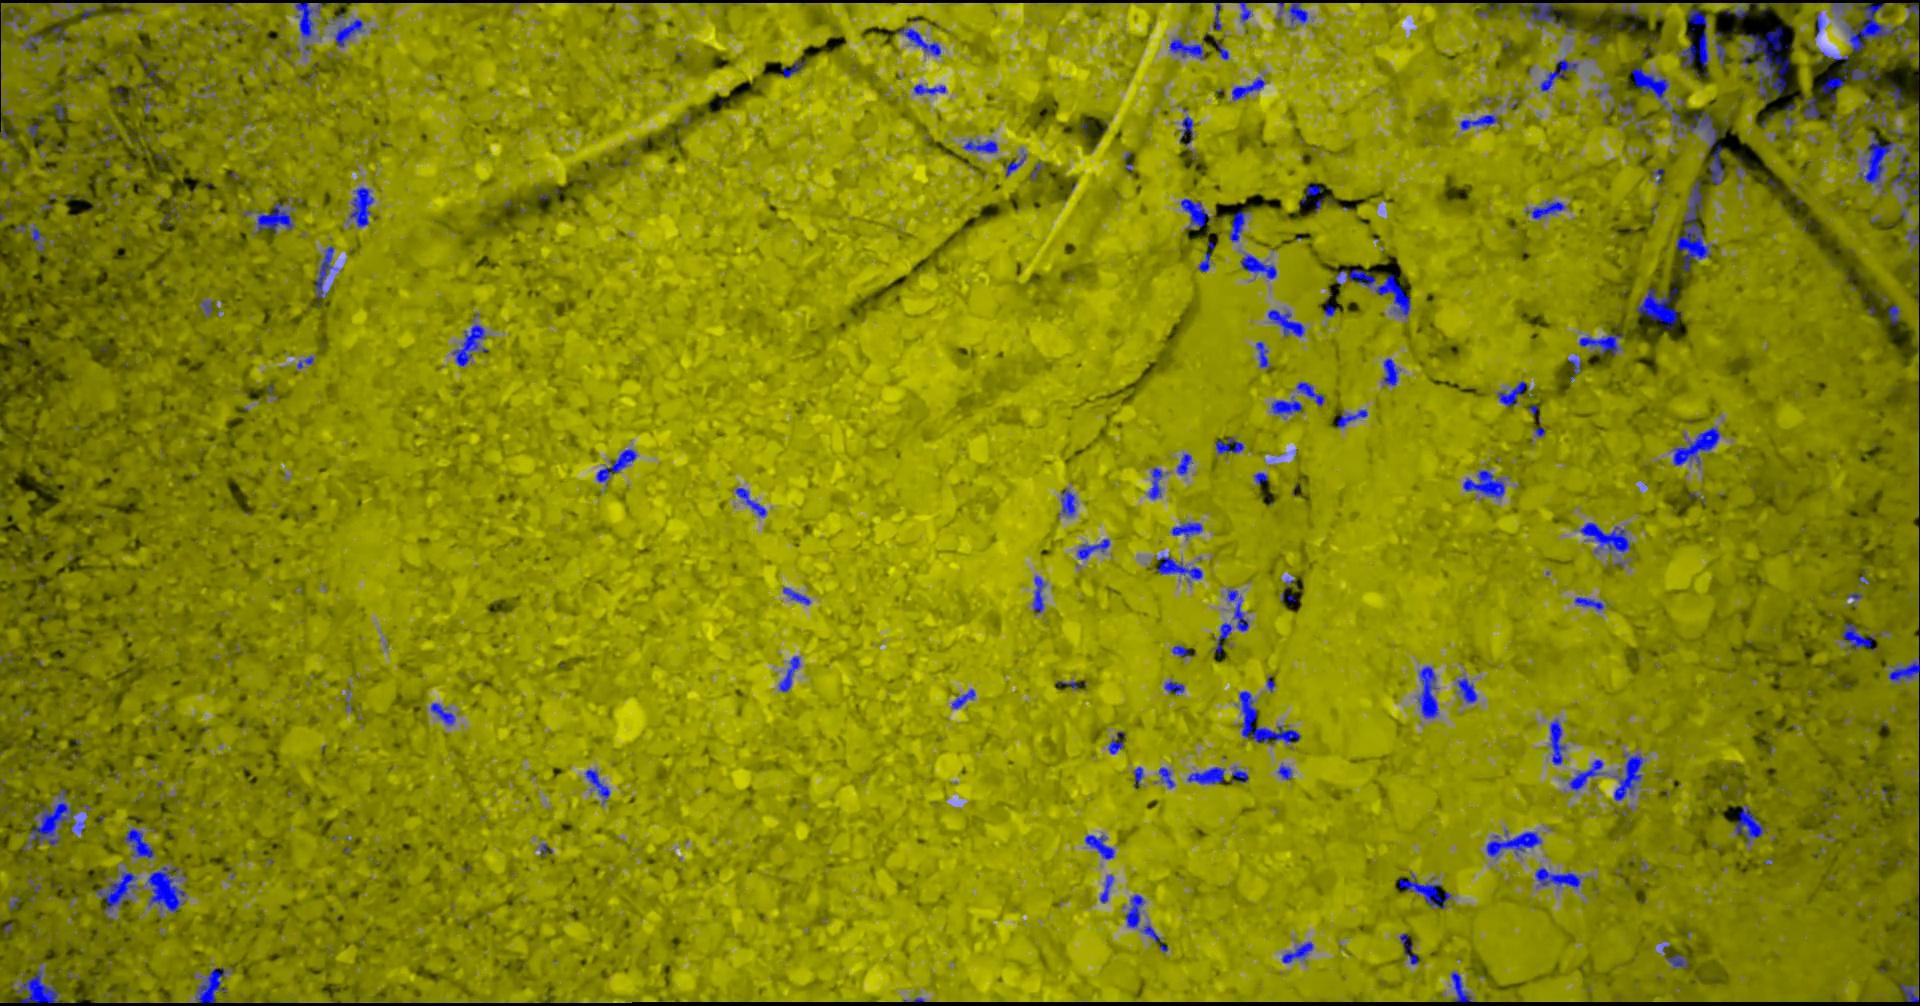ant: (1239, 690, 1302, 744), (1349, 268, 1412, 316), (1688, 111, 1724, 185), (147, 866, 188, 917), (1637, 287, 1684, 329), (1399, 873, 1453, 908), (17, 969, 70, 1005), (1674, 427, 1721, 466), (98, 870, 138, 915), (1681, 9, 1710, 69), (297, 0, 331, 50), (1487, 829, 1543, 859), (1581, 522, 1632, 553), (453, 324, 490, 366), (597, 448, 637, 485), (1822, 51, 1850, 103), (1614, 753, 1644, 800), (1633, 67, 1670, 105), (1530, 3, 1578, 30), (315, 246, 337, 306), (1156, 555, 1204, 580), (1464, 469, 1506, 498), (1542, 58, 1578, 91), (258, 201, 296, 232), (197, 967, 229, 1005), (899, 27, 942, 55), (1570, 760, 1606, 791), (1418, 666, 1440, 718), (1736, 805, 1765, 843), (1269, 309, 1305, 337), (350, 185, 375, 227), (1844, 622, 1878, 652), (1580, 333, 1625, 354), (124, 827, 156, 857), (1537, 868, 1582, 888), (737, 486, 768, 516), (1909, 224, 1920, 304), (1228, 589, 1250, 631), (1242, 253, 1277, 278), (1182, 198, 1211, 227), (587, 768, 611, 803), (337, 18, 364, 47), (1233, 77, 1267, 100), (1142, 923, 1170, 951), (1498, 380, 1528, 406), (1171, 37, 1206, 58), (780, 655, 801, 691), (1086, 835, 1116, 859), (1550, 719, 1567, 763), (1283, 941, 1316, 963), (1528, 201, 1567, 218), (1272, 396, 1304, 418), (1451, 970, 1473, 1002), (1298, 381, 1326, 405), (1078, 539, 1111, 559), (1890, 659, 1920, 681), (1126, 894, 1145, 927), (1189, 766, 1225, 782), (1853, 57, 1881, 79), (1007, 149, 1029, 177), (1462, 114, 1500, 130), (1457, 677, 1479, 702), (432, 702, 457, 725), (1401, 934, 1420, 964), (1172, 521, 1204, 539), (1, 108, 17, 145), (1230, 211, 1248, 241), (1338, 409, 1369, 427), (1059, 488, 1078, 516), (1034, 575, 1048, 614), (783, 586, 811, 605), (1217, 436, 1246, 453), (1217, 622, 1233, 653), (1887, 83, 1905, 111), (964, 138, 999, 152), (1149, 467, 1164, 499), (1384, 358, 1402, 385), (783, 58, 808, 77), (952, 688, 977, 708), (1289, 3, 1309, 24), (1109, 730, 1128, 753), (30, 224, 46, 251), (1575, 596, 1605, 610), (1900, 982, 1920, 1002), (1101, 874, 1115, 903), (1757, 3, 1803, 11), (1909, 3, 1920, 37), (1257, 340, 1271, 367), (1181, 116, 1194, 145), (916, 83, 947, 94), (1865, 100, 1886, 118), (1804, 97, 1821, 118), (1726, 3, 1751, 17), (25, 34, 44, 52), (1239, 0, 1255, 22), (145, 69, 163, 86), (1215, 38, 1230, 58), (1178, 453, 1194, 474), (1164, 680, 1185, 695), (1161, 767, 1176, 788), (1669, 953, 1689, 968), (1173, 644, 1197, 657), (1671, 107, 1686, 126), (1233, 766, 1250, 782), (1785, 103, 1797, 126), (1717, 41, 1727, 66), (53, 25, 69, 42), (1214, 3, 1223, 30), (1890, 304, 1901, 324), (1277, 763, 1293, 779), (55, 103, 69, 119), (298, 354, 315, 368), (1324, 298, 1337, 316), (1134, 766, 1144, 788), (1200, 251, 1211, 271), (1255, 471, 1270, 485), (1031, 161, 1043, 179), (1570, 358, 1582, 373), (27, 124, 41, 137), (9, 895, 22, 909), (1308, 184, 1322, 196), (204, 300, 215, 312), (1919, 892, 1920, 976)
